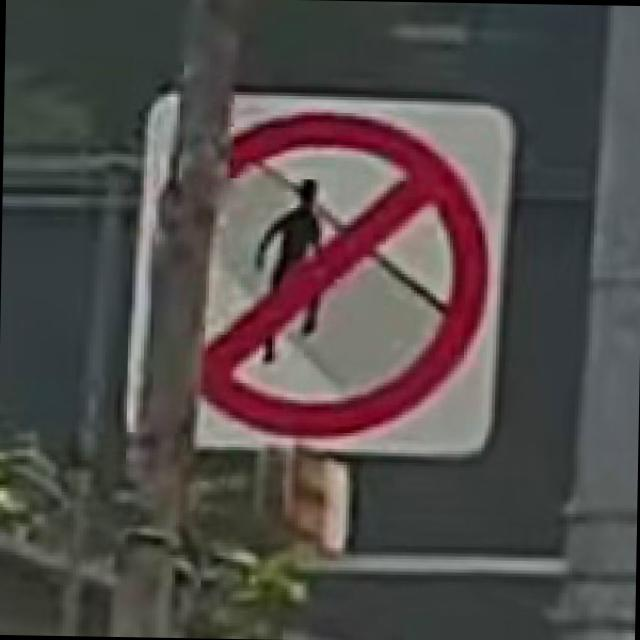nojaywalking_sign: (170, 82, 490, 446)
